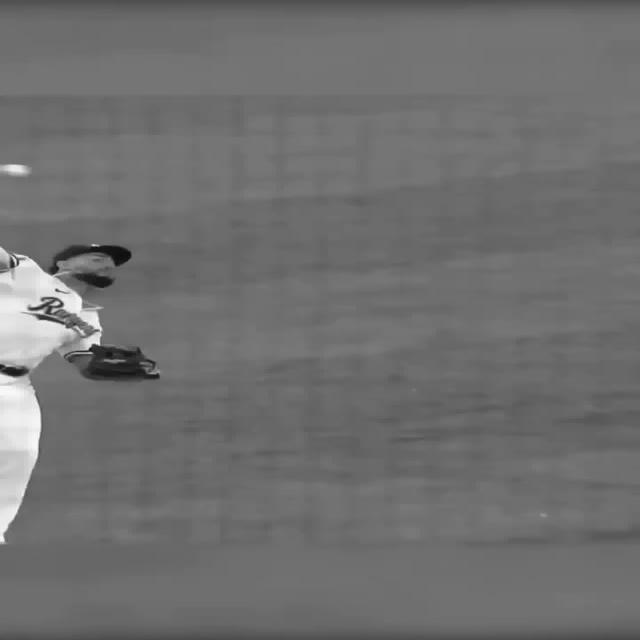baseball: (1, 164, 32, 177)
baseball_glove: (86, 344, 160, 378)
